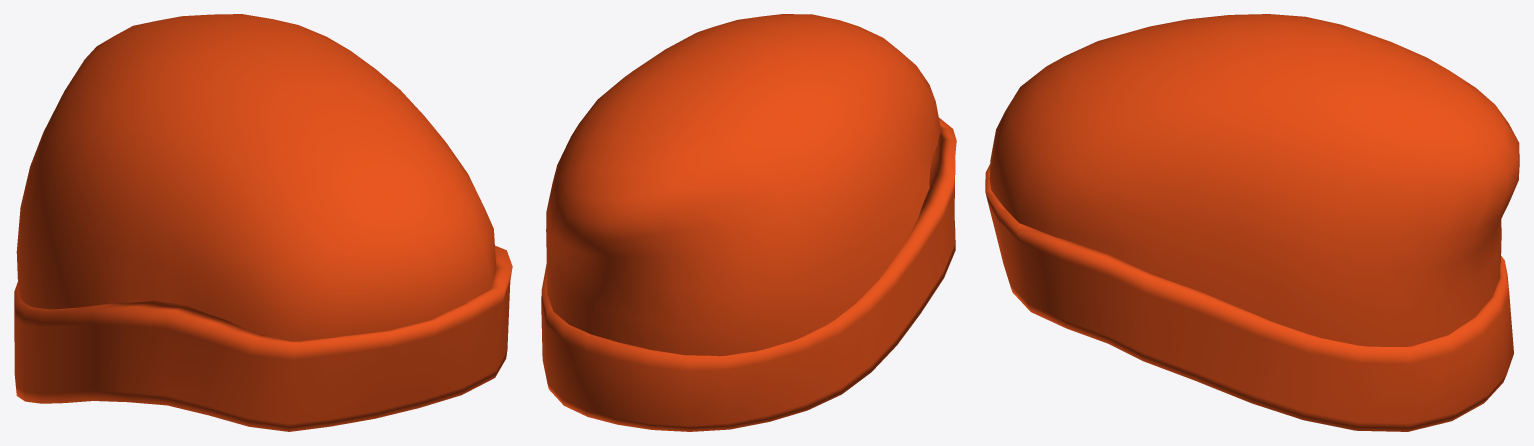
Rendered from kapa.fbx.
3 views of the same model, side by side, from view 1: azimuth 30°, elevation 25°; view 2: azimuth 150°, elevation 25°; view 3: azimuth 270°, elevation 25° (orthographic). The views are drawn at different scales.
Visible parts, largest first — view 1: override; view 2: override; view 3: override.
Boxes of the visible parts, <box> form: override: <box>14,14,512,431</box>; override: <box>541,14,956,431</box>; override: <box>985,14,1519,431</box>.
Size of the model in its own units: 18.05 by 16.06 by 23.59.
